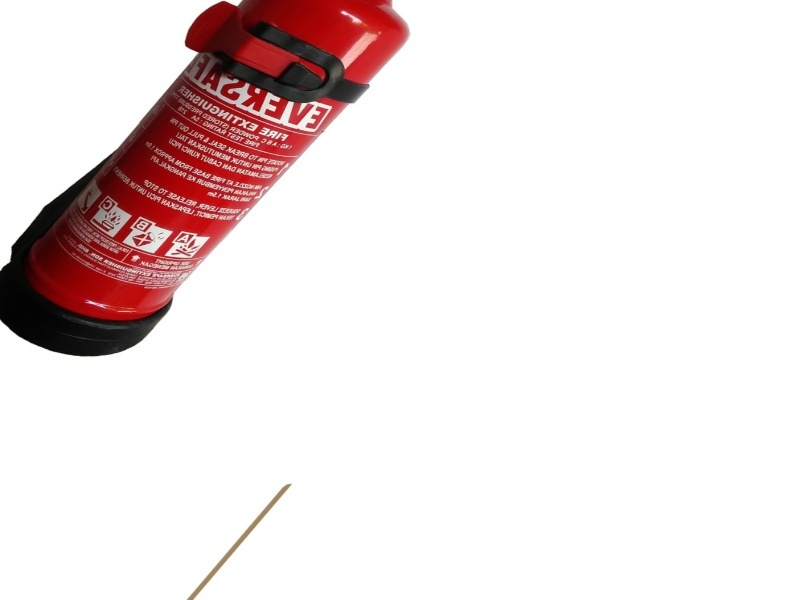fire_extinguisher: (8, 3, 413, 383)
